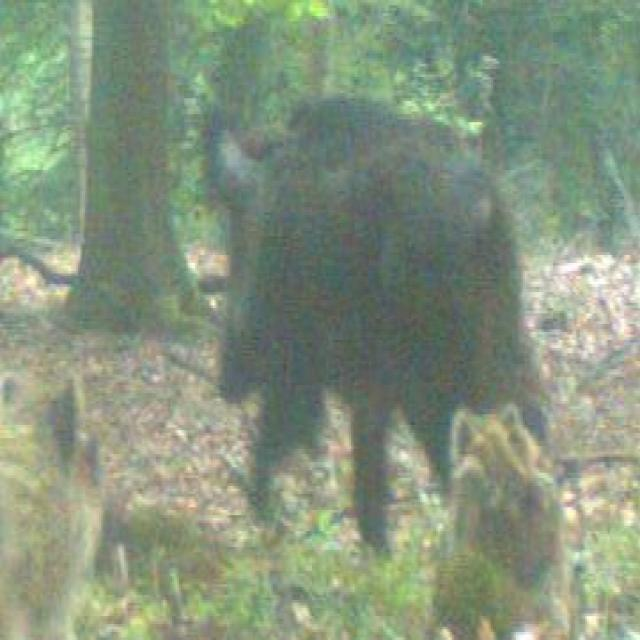pig: (202, 30, 568, 418), (0, 333, 129, 640), (442, 374, 612, 593)
